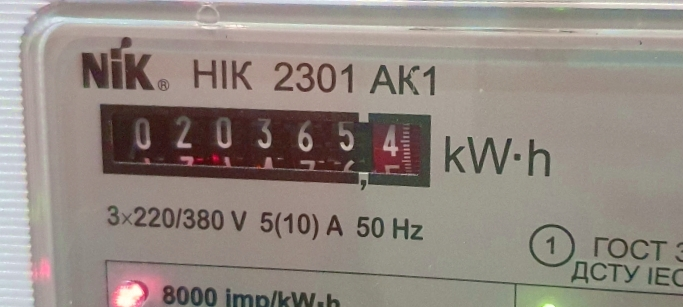0: (213, 113, 235, 150), (131, 115, 154, 150)
2: (170, 113, 195, 150)
3: (254, 113, 275, 150)
4: (380, 121, 401, 157)
5: (334, 118, 357, 152)
6: (294, 116, 316, 153)
screen: (78, 78, 453, 208)
